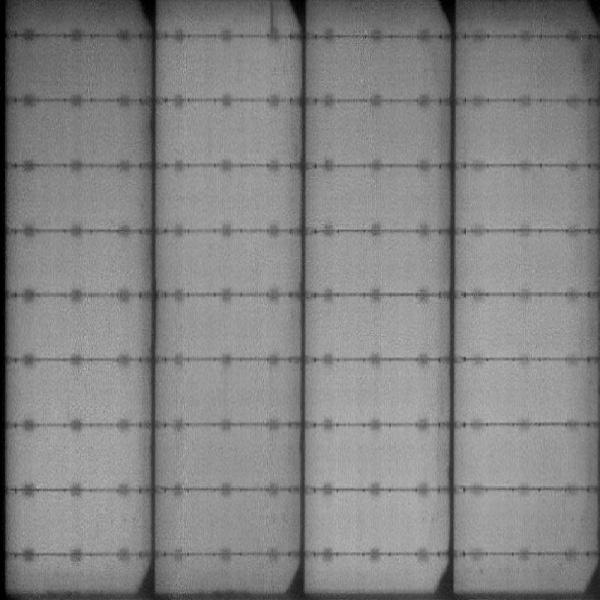scratch: (268, 3, 285, 38)
